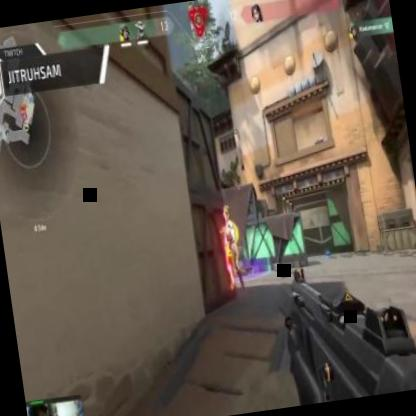enemy: (216, 204, 247, 298)
enemy_head: (221, 206, 231, 222)
